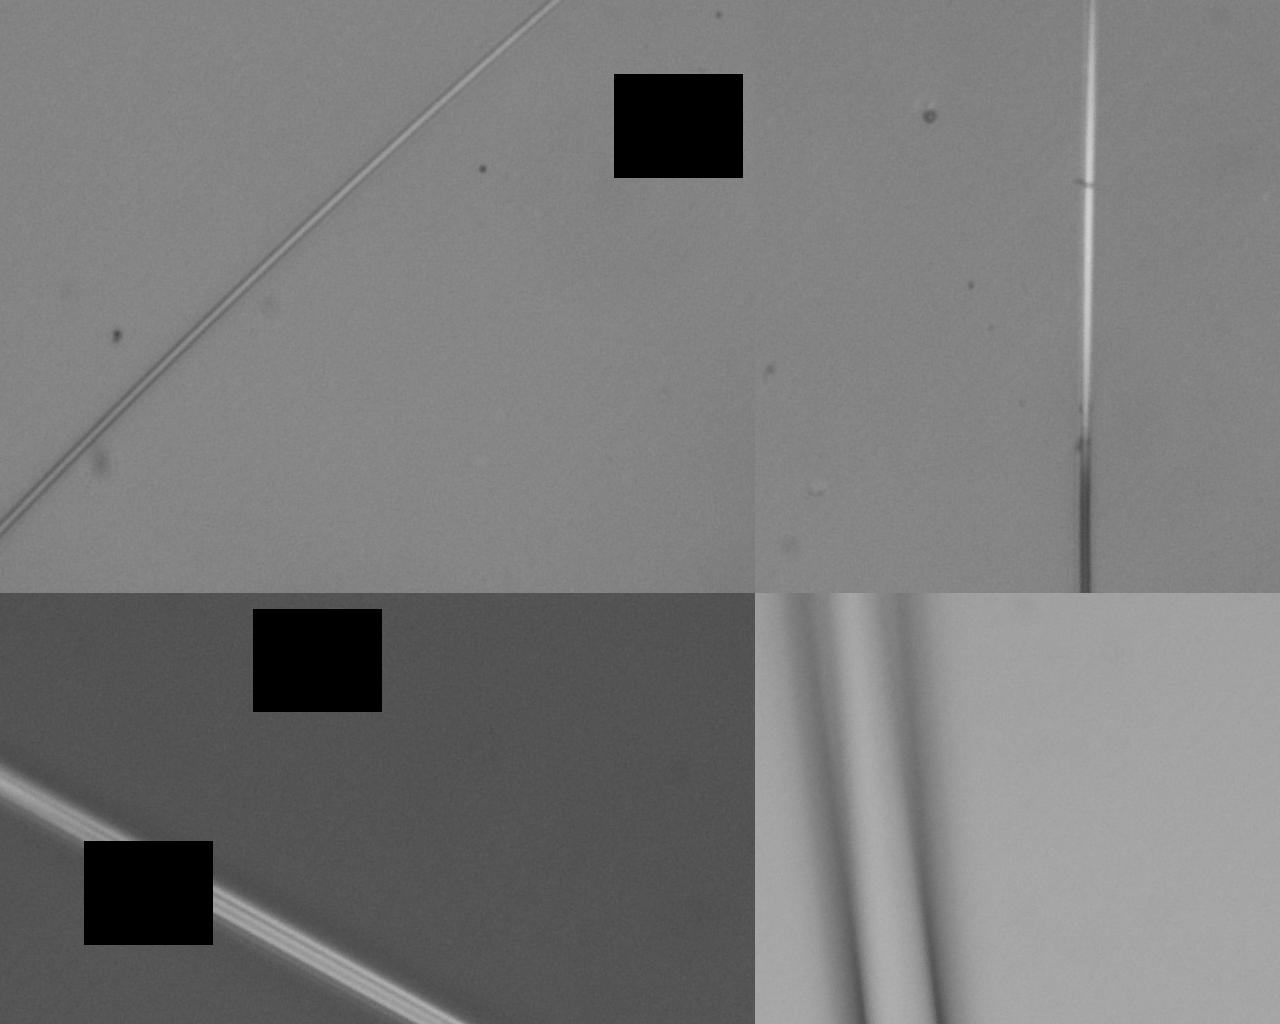fiber: (0, 342, 1280, 982)
